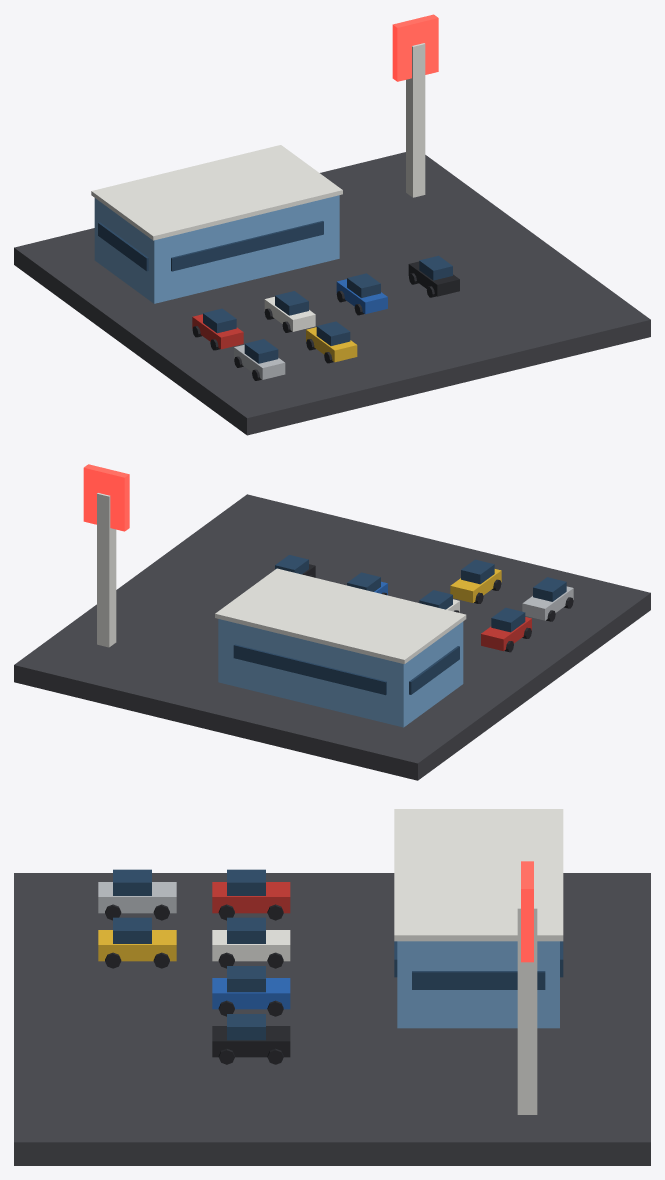
File: auto_income_2.glb
3 views of the same model, one above another, from view 1: azimuth 30°, elevation 25°; view 2: azimuth 150°, elevation 25°; view 3: azimuth 270°, elevation 25° (orthographic). The views are drawn at different scales.
Parts seen in each view (by area): view 1: auto_income_2; view 2: auto_income_2; view 3: auto_income_2.
Boxes of the visible parts, x1=… form: auto_income_2: x1=14, y1=14, x2=650, y2=435; auto_income_2: x1=14, y1=464, x2=650, y2=780; auto_income_2: x1=14, y1=809, x2=650, y2=1165.
Bounding box in the file's own units: 1.96 × 0.88 × 1.96.
